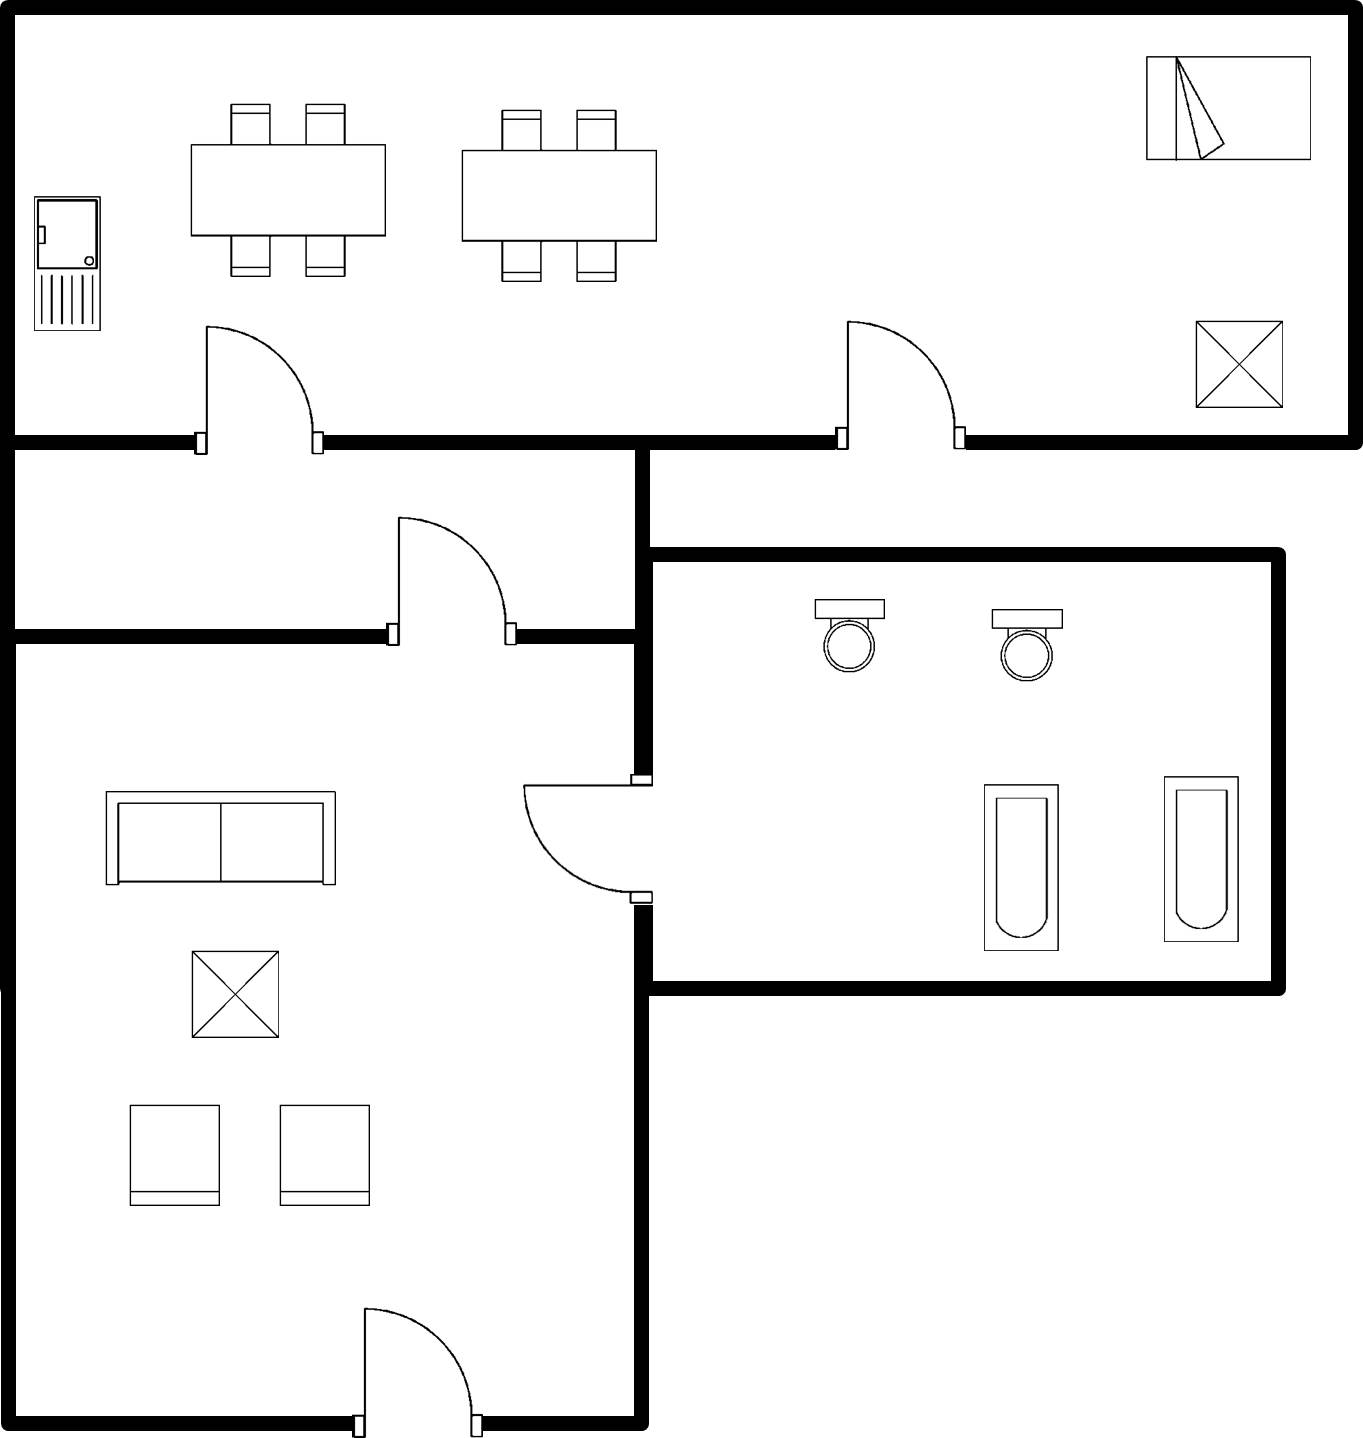bed: (1131, 50, 1321, 172)
coffee_table: (1182, 309, 1294, 422), (176, 938, 290, 1048)
dining_table: (445, 96, 673, 296), (176, 92, 399, 285)
large_sink: (975, 596, 1075, 692), (801, 593, 894, 681)
large_sofa: (93, 777, 352, 900)
sink: (27, 186, 114, 340)
small_sofa: (266, 1093, 380, 1219), (121, 1095, 232, 1219)
tub: (969, 771, 1072, 964), (1154, 769, 1248, 953)
